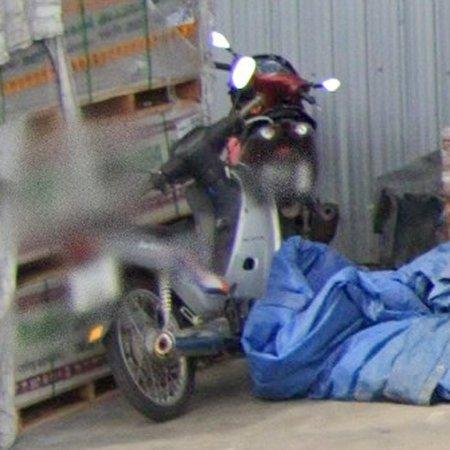motorcycles: (108, 113, 282, 422)
